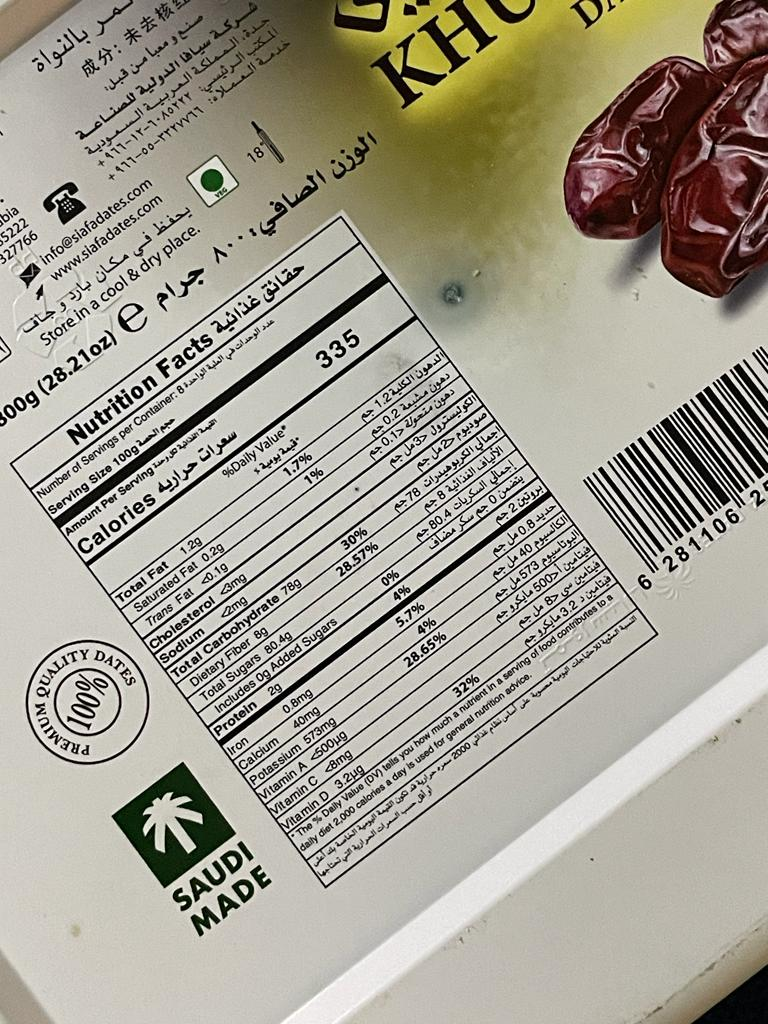table: (11, 213, 672, 889)
